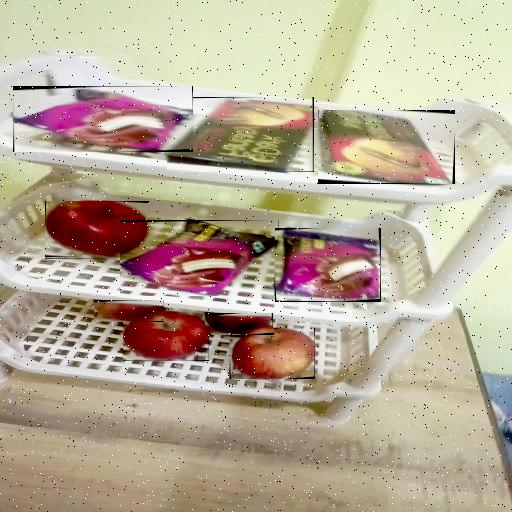Apple: (45, 202, 149, 260), (228, 328, 314, 379), (123, 312, 209, 361), (94, 300, 164, 322), (205, 313, 273, 335)
Choco Fills: (167, 97, 314, 172), (318, 110, 455, 184)
Choco Pie: (120, 220, 279, 296), (13, 86, 193, 152), (275, 228, 381, 302)
